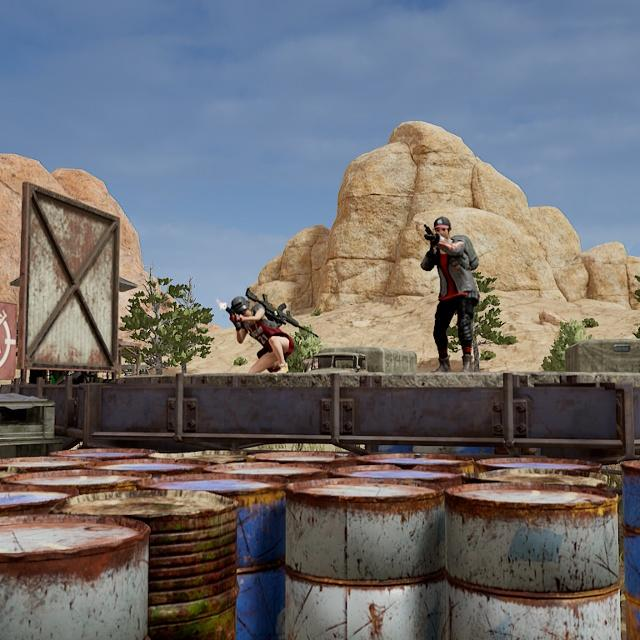head: (432, 215, 453, 241), (229, 295, 251, 318)
people: (419, 213, 481, 372), (228, 294, 297, 375)
